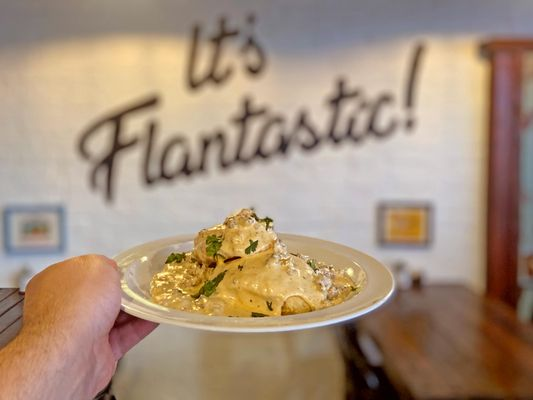sushi: (110, 214, 399, 391), (111, 208, 400, 337)
